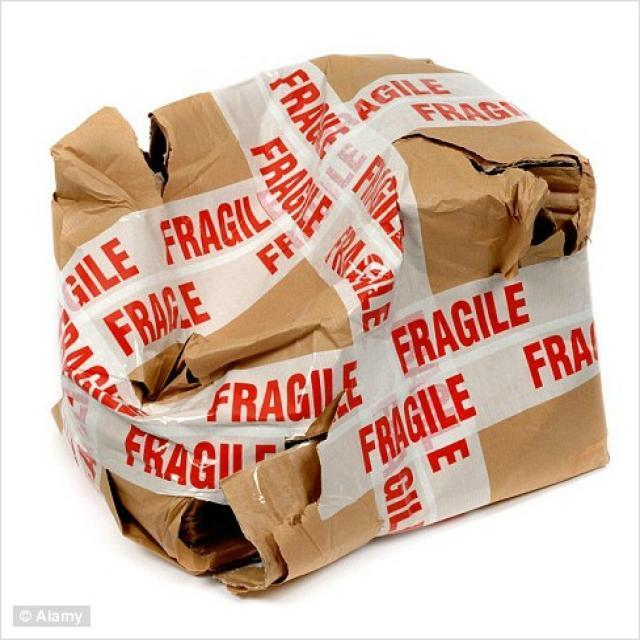hole: (174, 502, 269, 592), (510, 165, 581, 254), (110, 104, 176, 184)
